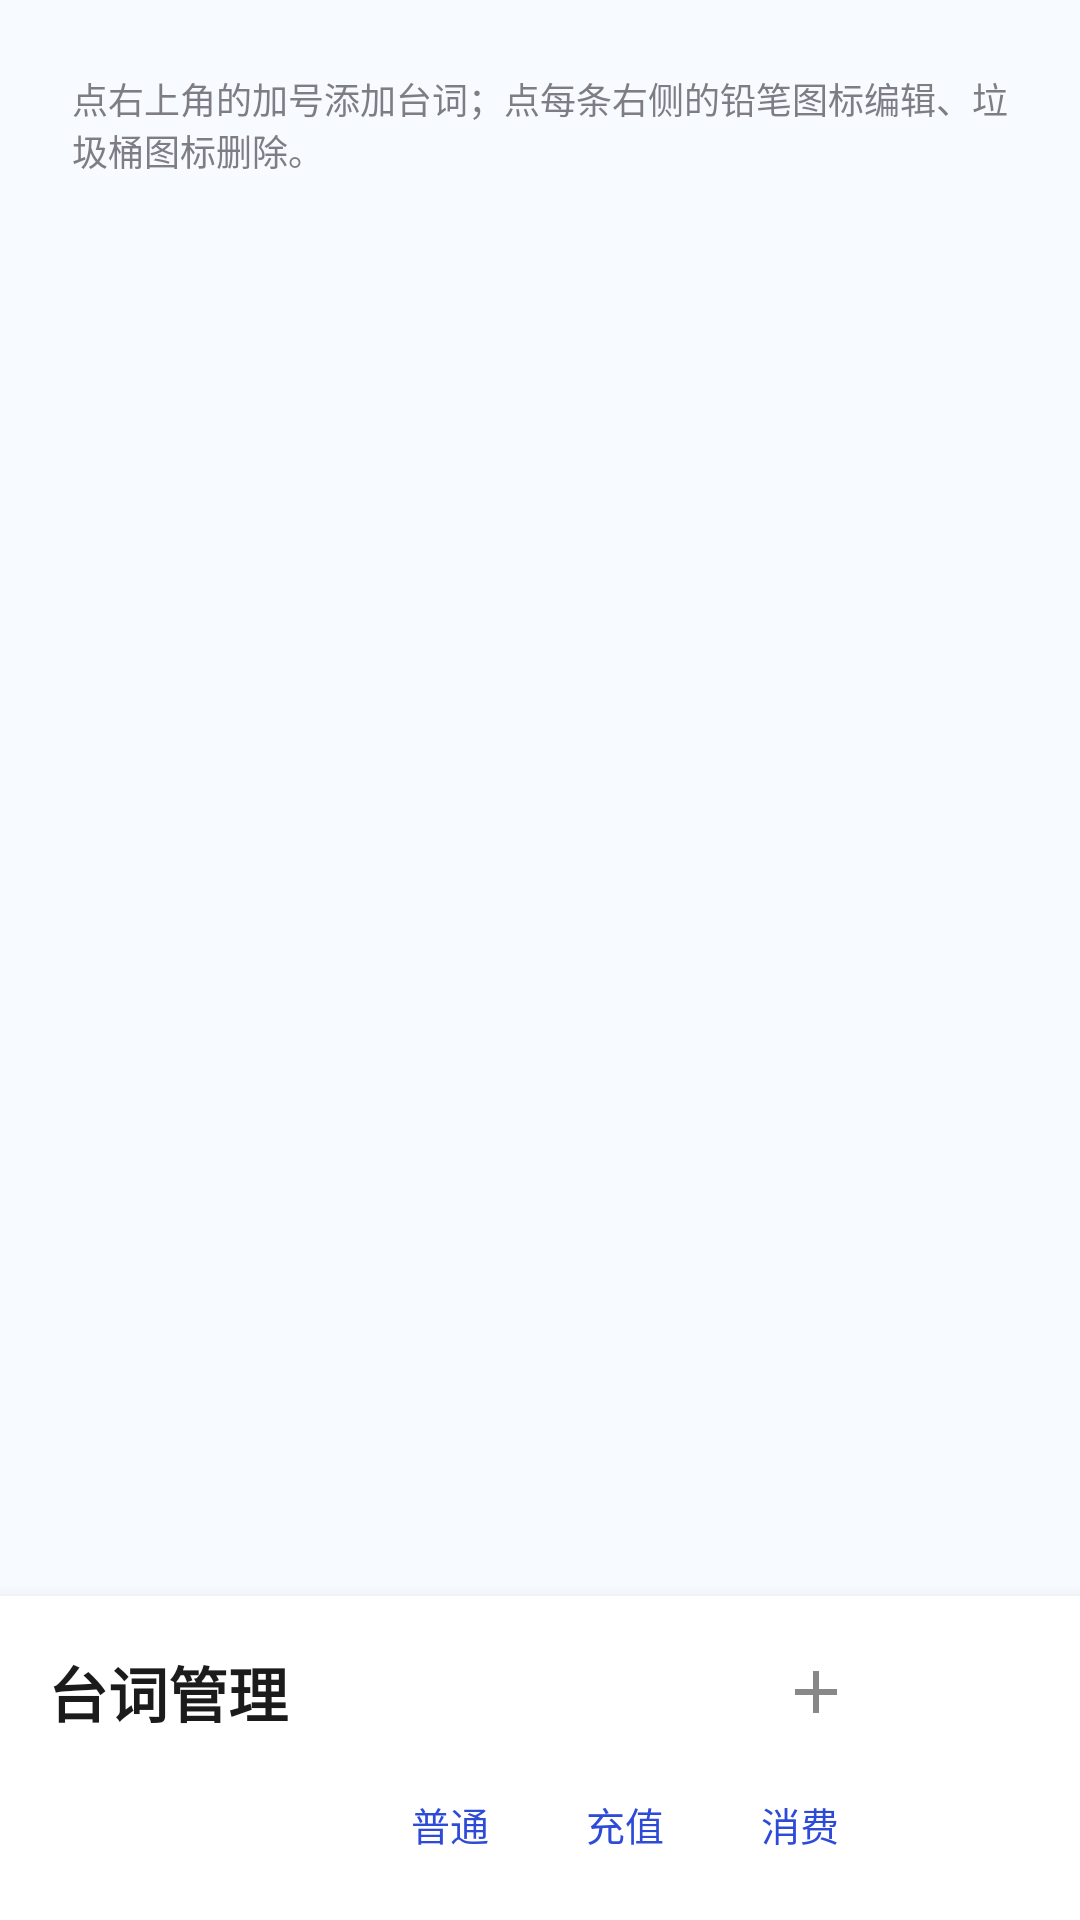

Named icons in this screenshot (1080×1920) and their bounding boxes, [x1=x1, y1=y1, x2=x2, y2=y2]:
添加台词: [x1=795, y1=1671, x2=837, y2=1713]
